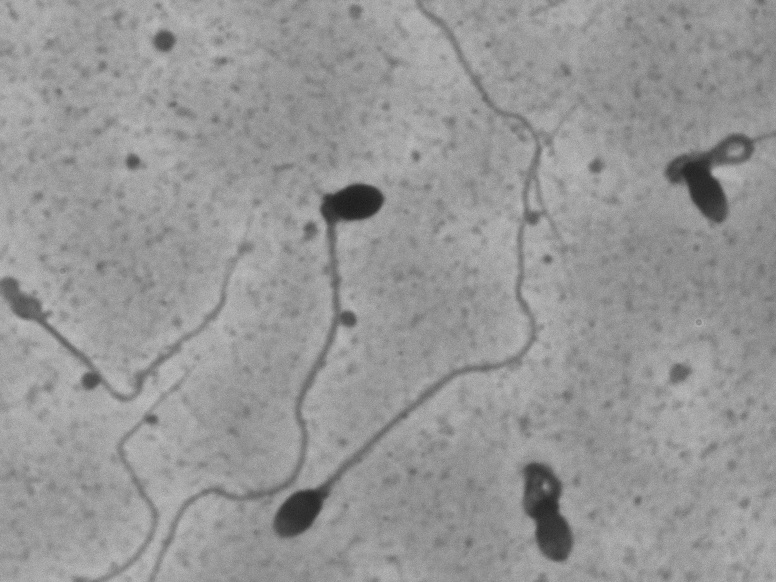Abnormal: (250, 112, 391, 416), (655, 95, 763, 275), (481, 433, 600, 573)
Normal: (233, 74, 612, 567)
